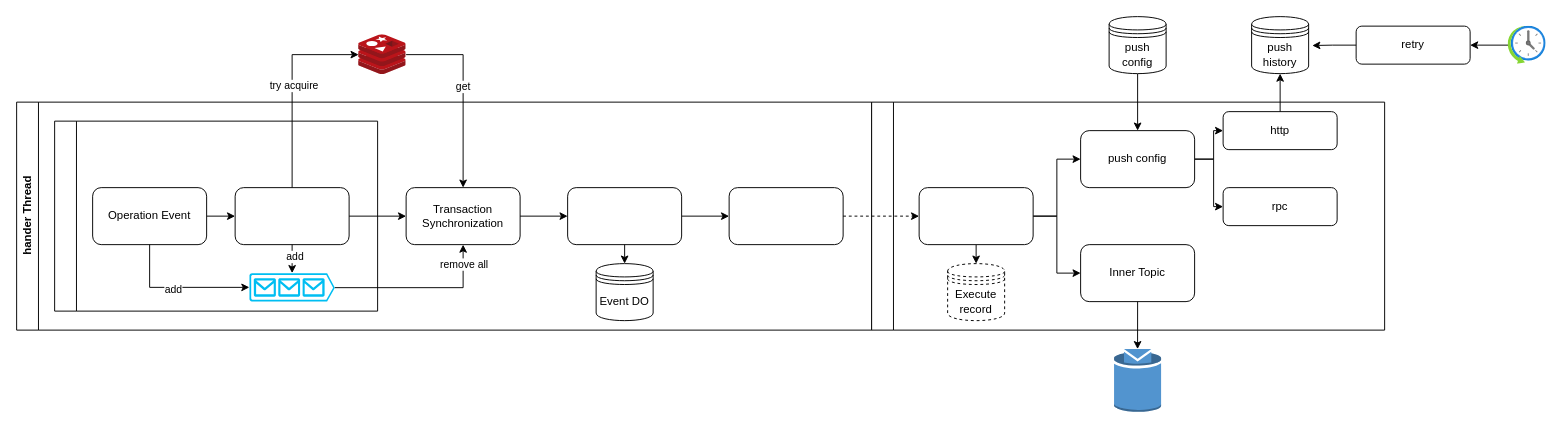
Image size: 1563x428. Some labels were removed from this diagram. Each missing label, with the box of its shape:
Async Executor: (871, 101, 1385, 330)
Event Listener: (234, 187, 349, 245)
publish Event: (728, 187, 843, 245)
record Event: (918, 187, 1033, 245)
save Event DO: (567, 187, 682, 245)
Transaction: (54, 120, 378, 311)
